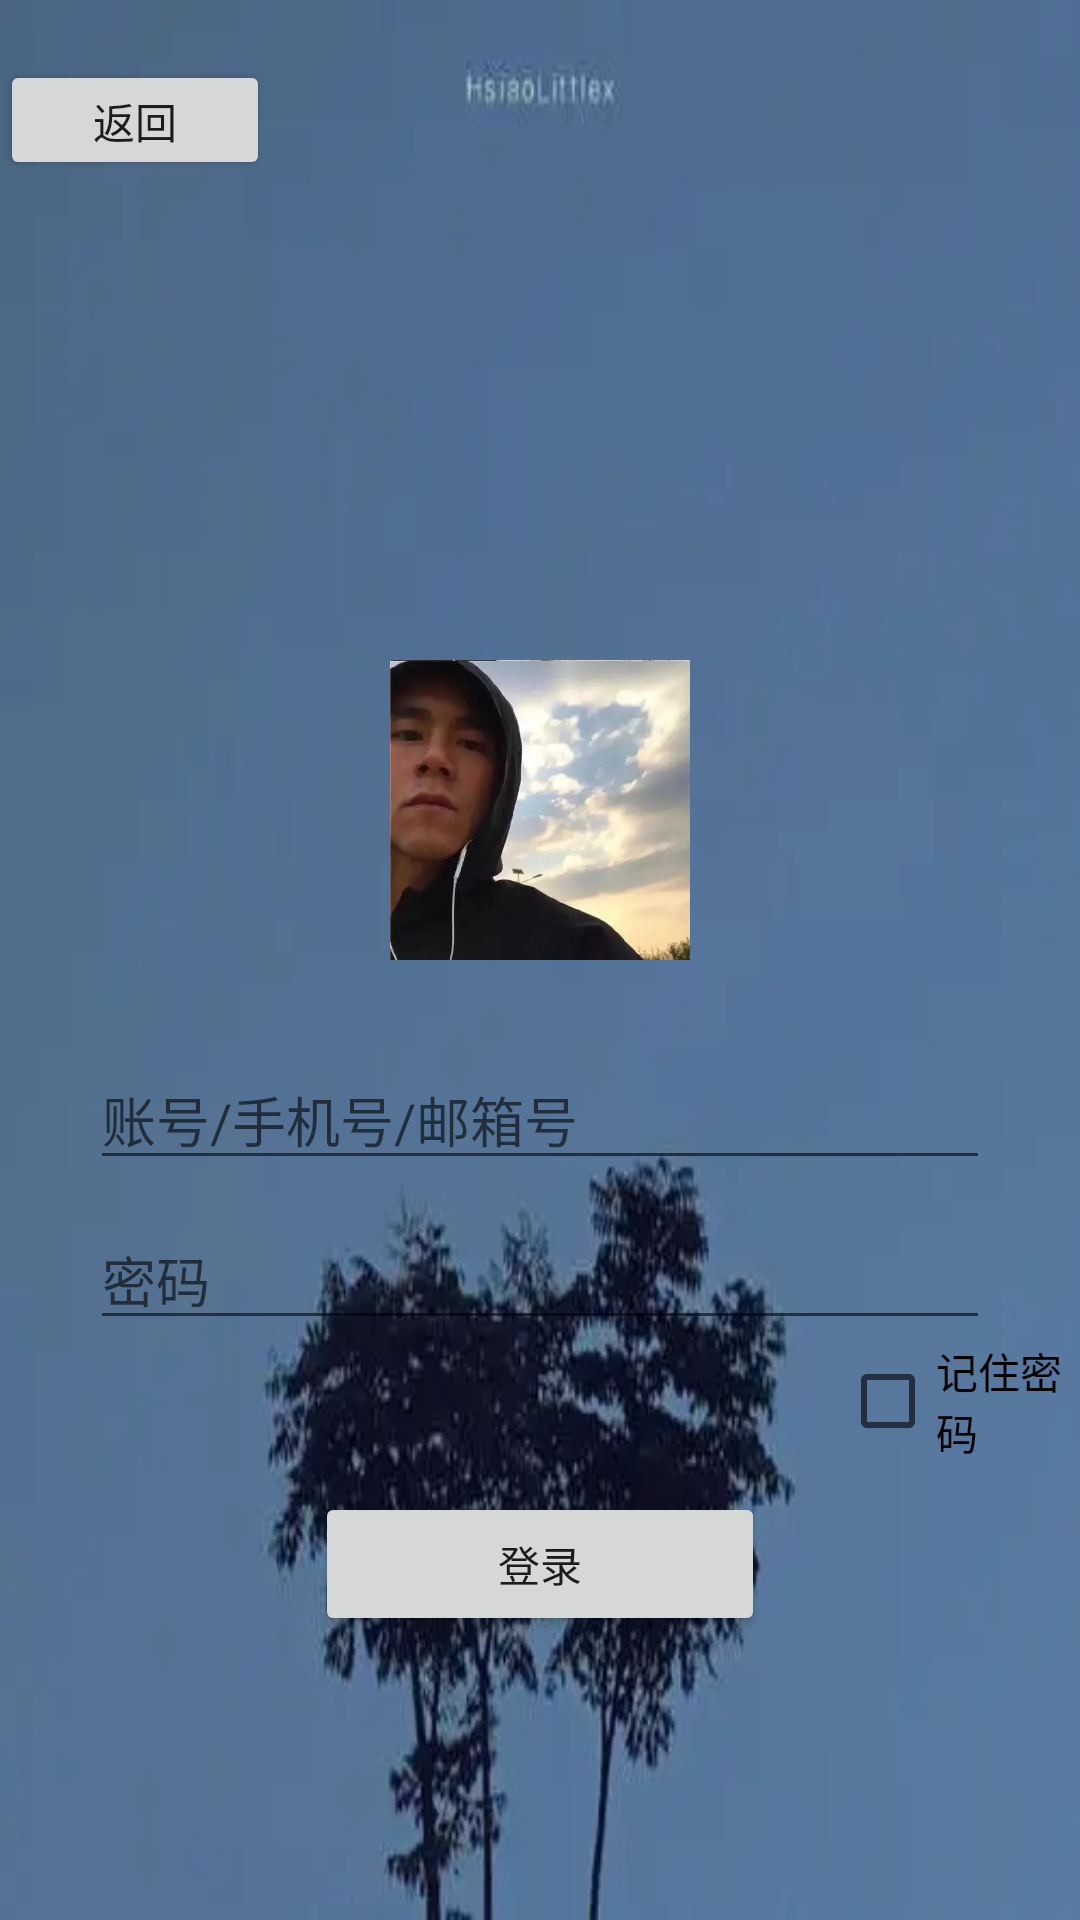

Named icons in this screenshot (1080*1920) and their centers, (x,y):
touxiang: (540,810)
